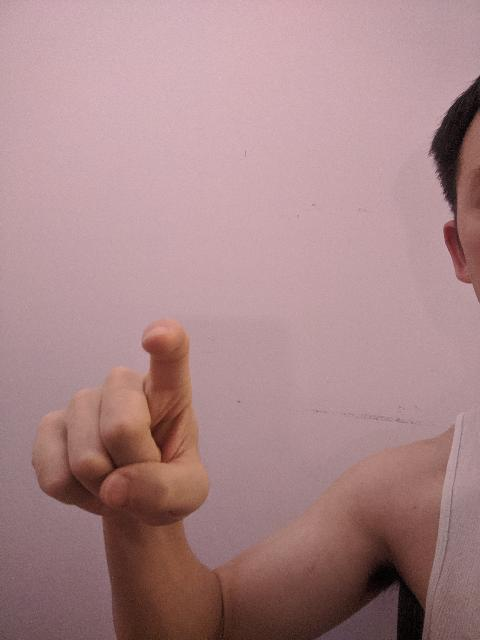Z: (27, 314, 213, 532)
